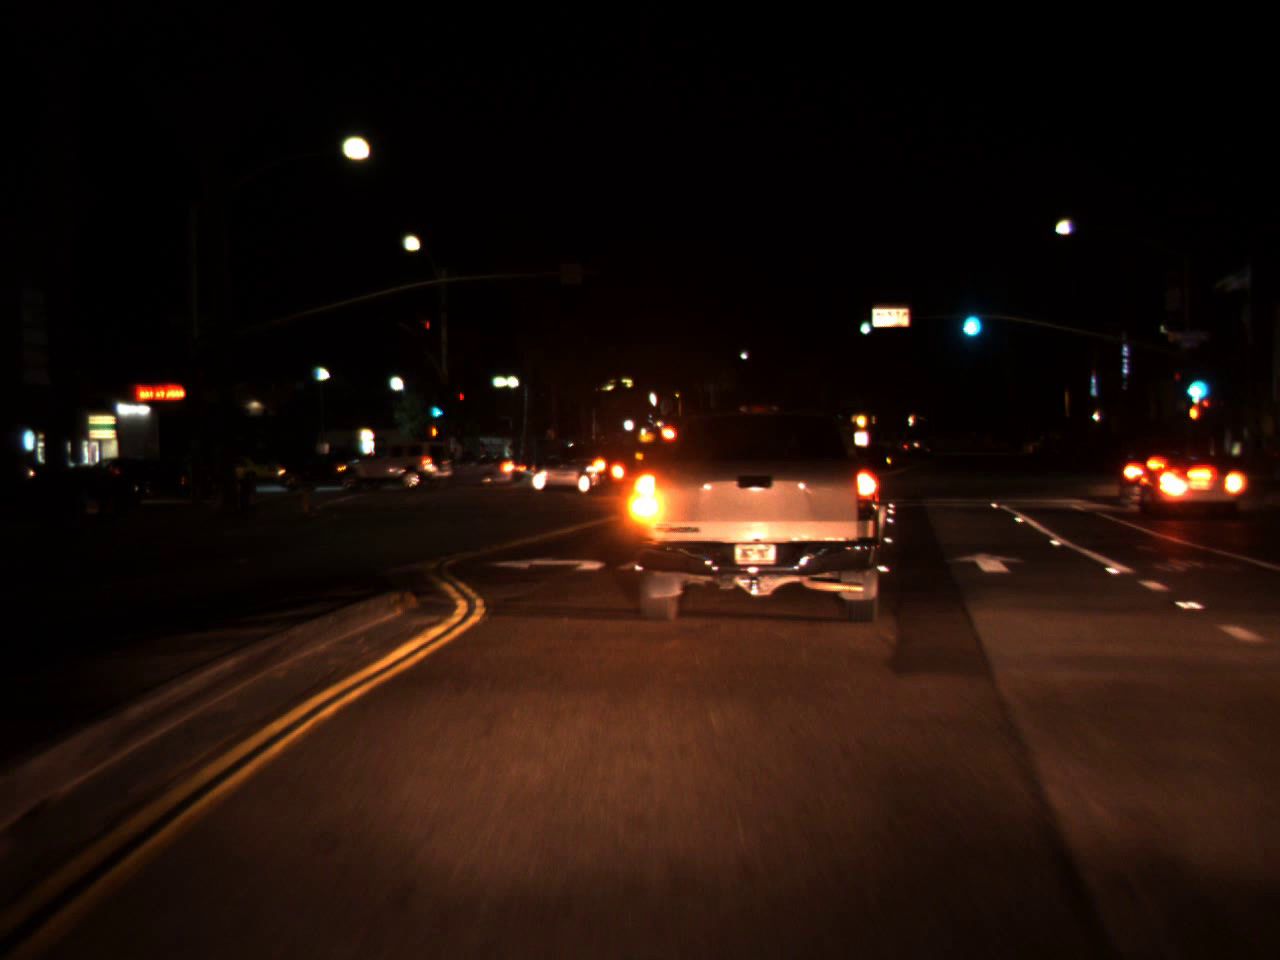go: (1179, 355, 1211, 409), (956, 292, 984, 343), (426, 388, 447, 424), (857, 310, 871, 337)
